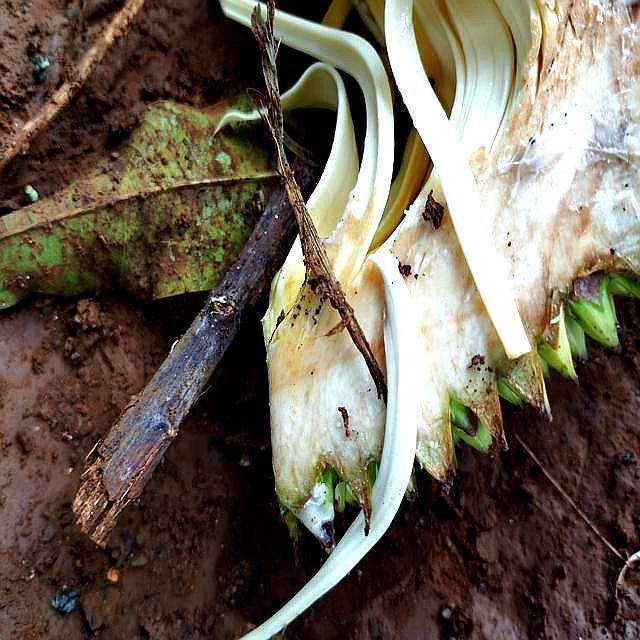Biodegradable: (263, 1, 640, 535)
